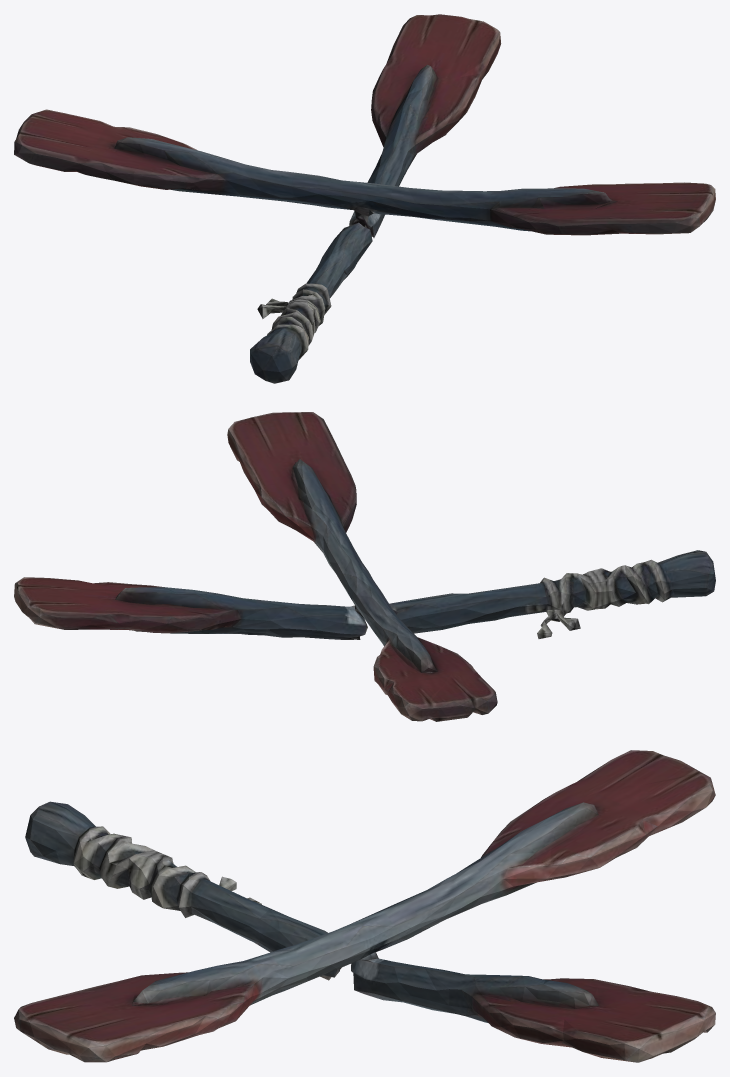
The model's file is broken_oars.glb.
The picture shows the model from 3 angles, top to bottom: view 1: azimuth 30°, elevation 25°; view 2: azimuth 150°, elevation 25°; view 3: azimuth 270°, elevation 25°; orthographic projection. The views are drawn at different scales.
Visible parts, largest first — view 1: tripo_node_b4d74f26-bd05-471b-aab0-7fa19166eec7.001; view 2: tripo_node_b4d74f26-bd05-471b-aab0-7fa19166eec7.001; view 3: tripo_node_b4d74f26-bd05-471b-aab0-7fa19166eec7.001.
Part boxes in pixels (left/top/right/bottom): tripo_node_b4d74f26-bd05-471b-aab0-7fa19166eec7.001: left=14, top=14, right=715, bottom=383; tripo_node_b4d74f26-bd05-471b-aab0-7fa19166eec7.001: left=14, top=412, right=715, bottom=721; tripo_node_b4d74f26-bd05-471b-aab0-7fa19166eec7.001: left=14, top=750, right=715, bottom=1062.
Bounding box in the file's own units: 0.9993 × 0.1649 × 0.9979.
1 material, 1 textured.
